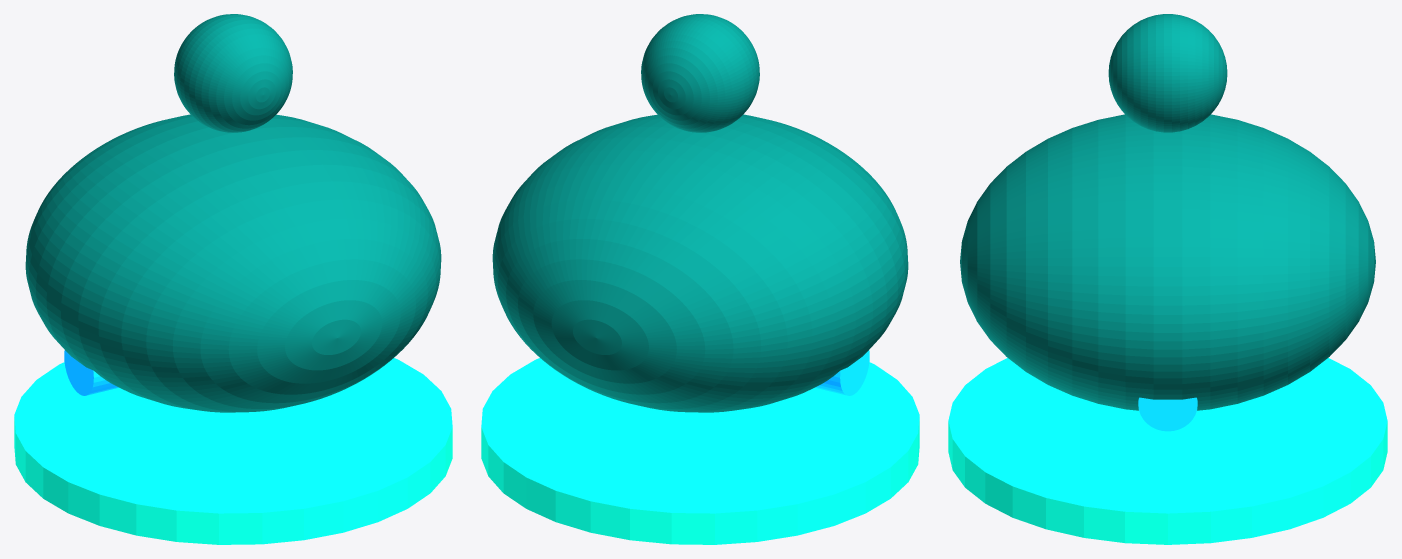
Rendered from fashion_beanie.dae.
3 renders of one model, left to right at view 1: azimuth 30°, elevation 25°; view 2: azimuth 150°, elevation 25°; view 3: azimuth 270°, elevation 25°, orthographic.
Visible parts, largest first — view 1: 06_19_Popular_Fashion_Beanie_part_01, 06_19_Popular_Fashion_Beanie_ROOT_base, 06_19_Popular_Fashion_Beanie_part_02, 06_19_Popular_Fashion_Beanie_part_03; view 2: 06_19_Popular_Fashion_Beanie_part_01, 06_19_Popular_Fashion_Beanie_ROOT_base, 06_19_Popular_Fashion_Beanie_part_02, 06_19_Popular_Fashion_Beanie_part_03; view 3: 06_19_Popular_Fashion_Beanie_part_01, 06_19_Popular_Fashion_Beanie_ROOT_base, 06_19_Popular_Fashion_Beanie_part_02, 06_19_Popular_Fashion_Beanie_part_03.
Boxes of the visible parts, box(x1,y1,x2,y2) form: 06_19_Popular_Fashion_Beanie_part_01: box(25, 114, 441, 412); 06_19_Popular_Fashion_Beanie_ROOT_base: box(14, 358, 452, 544); 06_19_Popular_Fashion_Beanie_part_02: box(174, 14, 292, 132); 06_19_Popular_Fashion_Beanie_part_03: box(64, 350, 118, 395); 06_19_Popular_Fashion_Beanie_part_01: box(492, 114, 908, 412); 06_19_Popular_Fashion_Beanie_ROOT_base: box(481, 358, 919, 544); 06_19_Popular_Fashion_Beanie_part_02: box(641, 14, 759, 132); 06_19_Popular_Fashion_Beanie_part_03: box(815, 350, 869, 395); 06_19_Popular_Fashion_Beanie_part_01: box(960, 114, 1375, 410); 06_19_Popular_Fashion_Beanie_ROOT_base: box(948, 358, 1387, 544); 06_19_Popular_Fashion_Beanie_part_02: box(1108, 14, 1227, 132); 06_19_Popular_Fashion_Beanie_part_03: box(1138, 397, 1197, 431).
Size of the model in its own units: 0.76 by 0.8261 by 0.76.
